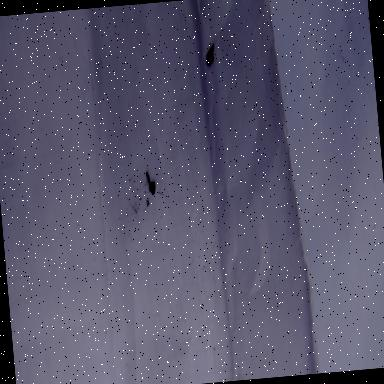pbw: (146, 170, 156, 196), (206, 43, 216, 66)
